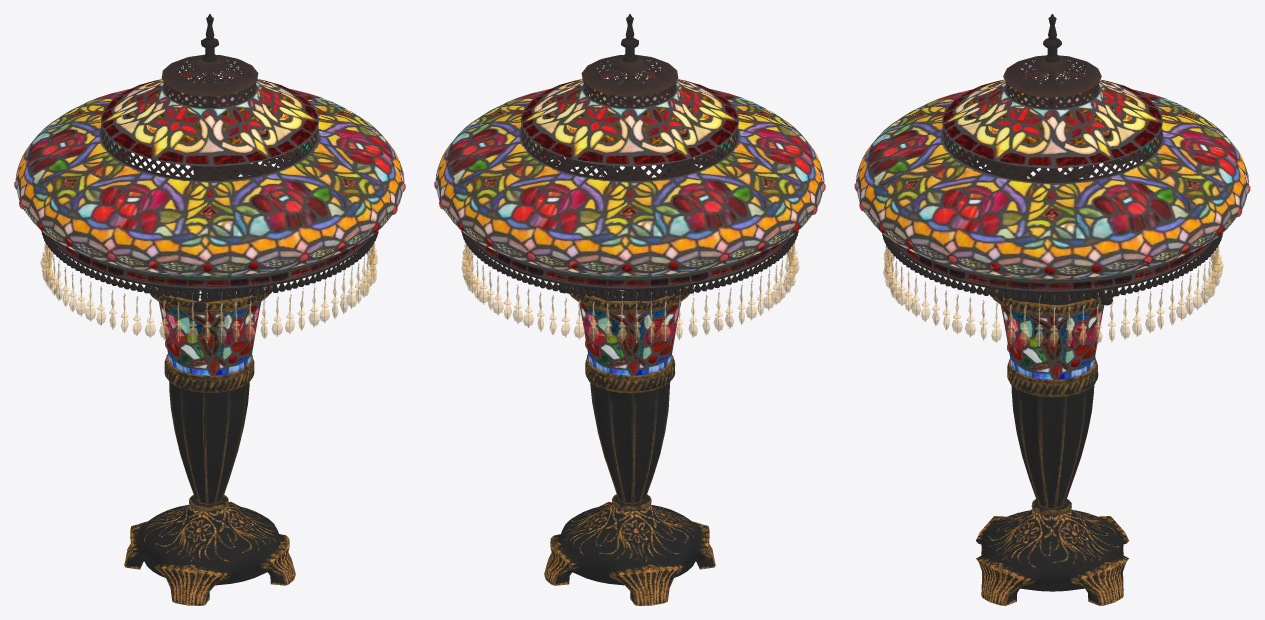
The model's file is tiffany-lamp.glb.
The picture shows the model from 3 angles, left to right: view 1: azimuth 30°, elevation 25°; view 2: azimuth 150°, elevation 25°; view 3: azimuth 270°, elevation 25°; orthographic projection.
Parts seen in each view (by area): view 1: stainedglass, base, grill, amberbeads, hardware, steel, redgems; view 2: stainedglass, base, grill, amberbeads, hardware, steel, redgems; view 3: stainedglass, base, grill, amberbeads, hardware, steel, redgems.
Part boxes in pixels (x1,y1,x2,y2): stainedglass: (15, 71, 404, 375); base: (124, 263, 295, 605); grill: (101, 55, 317, 180); amberbeads: (40, 242, 377, 342); hardware: (41, 14, 378, 312); steel: (45, 244, 373, 342); redgems: (14, 101, 405, 363); stainedglass: (435, 71, 824, 375); base: (544, 263, 715, 605); grill: (521, 55, 738, 181); amberbeads: (461, 170, 799, 342); hardware: (461, 14, 798, 298); steel: (466, 160, 794, 342); redgems: (434, 104, 825, 363); stainedglass: (856, 71, 1248, 379); base: (976, 266, 1128, 605); grill: (943, 55, 1162, 182); amberbeads: (883, 169, 1223, 346); hardware: (882, 14, 1223, 305); steel: (887, 164, 1218, 345); redgems: (854, 105, 1250, 367).
Size of the model in its own units: 0.4399 by 0.6882 by 0.4399.
8 materials, 4 textured.
